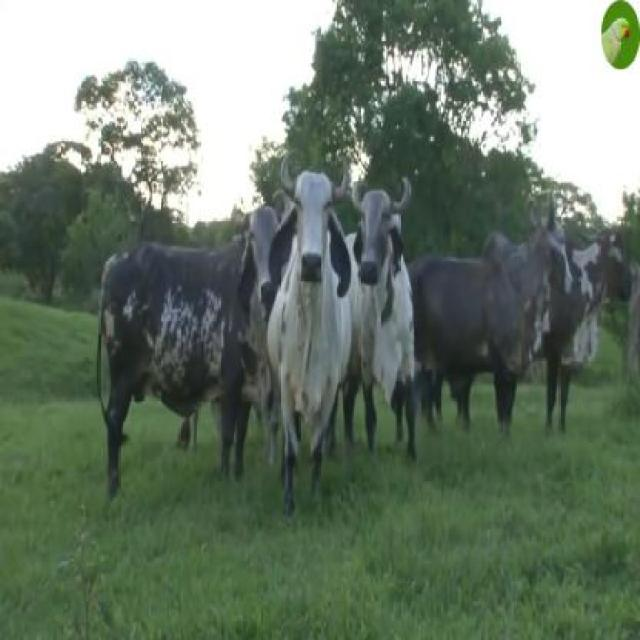Cow: (98, 202, 280, 496), (272, 141, 342, 497), (340, 170, 417, 442)
